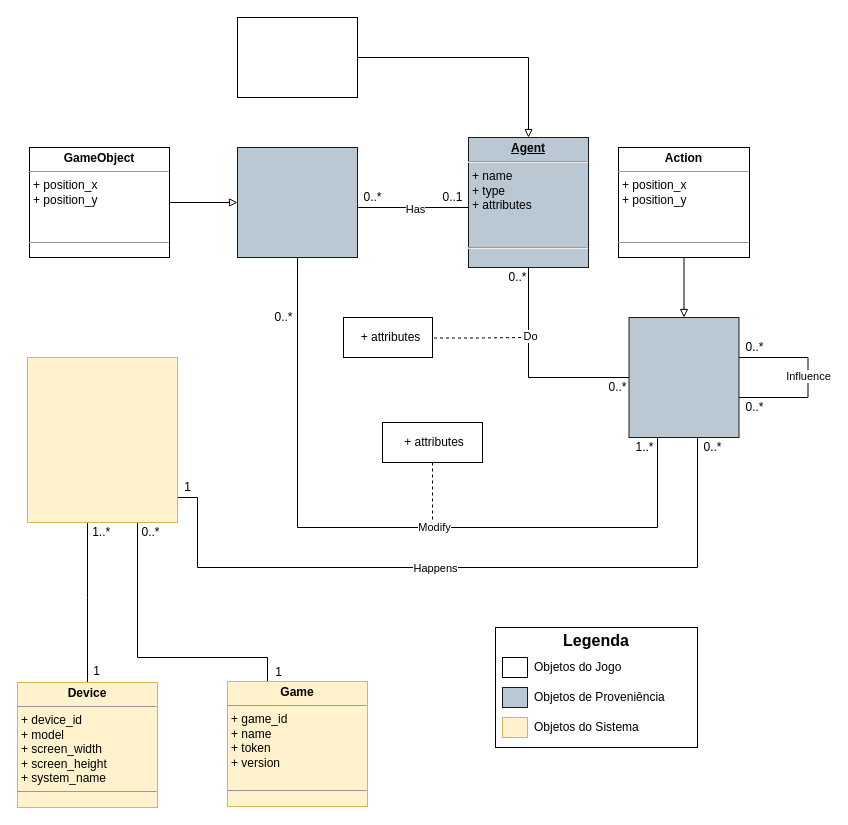
Image size: 848x825. Some labels were removed from this diagram. The shapes that lost their labels are listed below. From the top down, each one's centre as x and y in pixels, then its label:
At (297,57): "Character + position_x + position_y".
At (297,202): "Entity + entity_id + name + attributes".
At (683,377): "Activity + activity_id + name + time + attributes".
At (102,439): "Session + name + language + game_stage + date + start_time + end_time".
